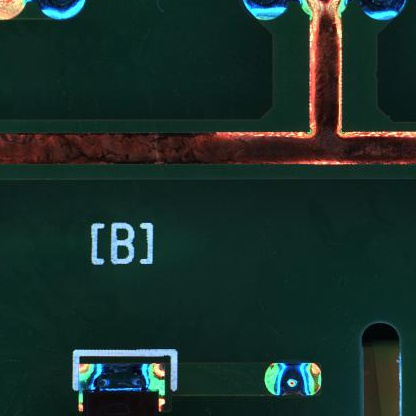spot: (260, 361, 323, 398)
